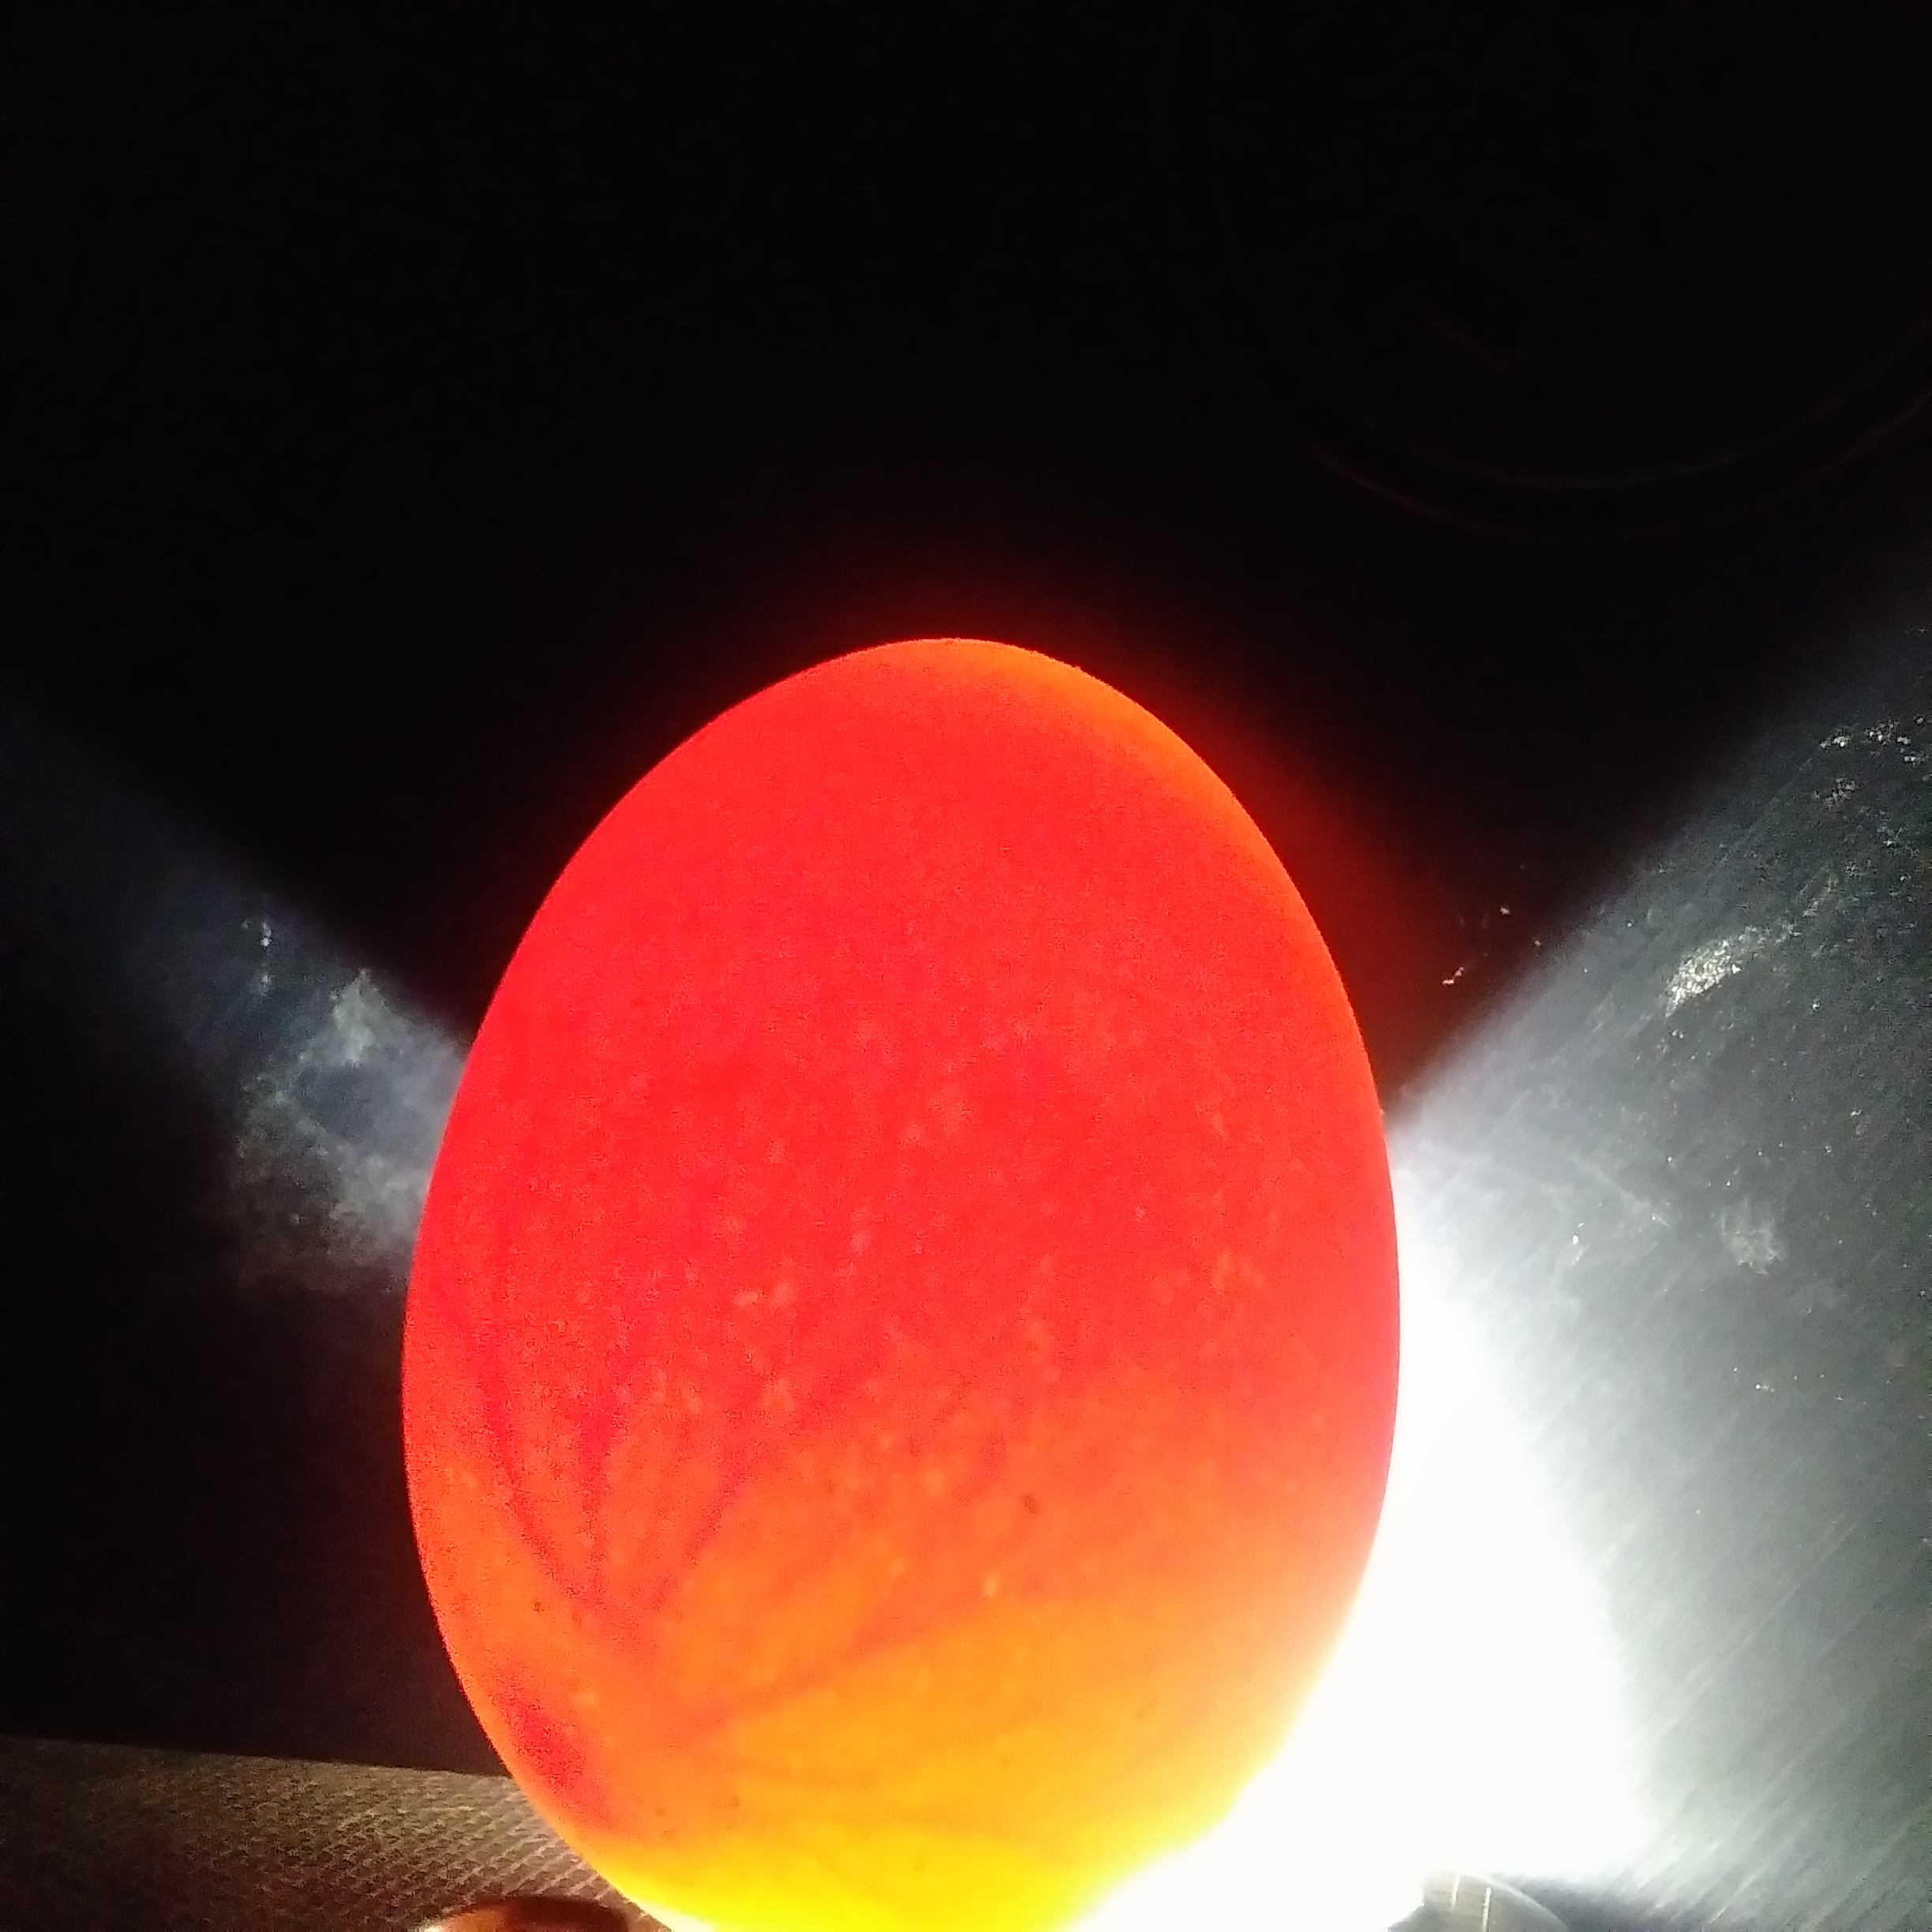bloodcell: (488, 1405, 1129, 1622), (653, 1675, 1120, 1861)
embryo: (483, 1683, 630, 1815)
